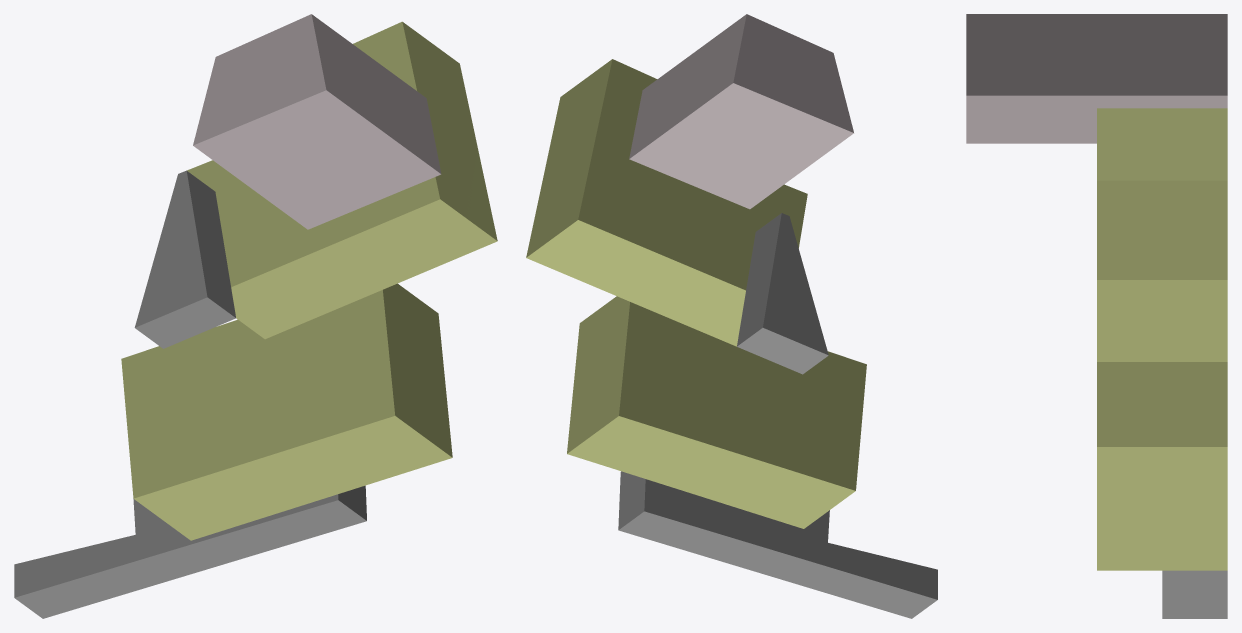
3 renders of one model, left to right at view 1: azimuth 30°, elevation 25°; view 2: azimuth 150°, elevation 25°; view 3: azimuth 270°, elevation 25°, orthographic. The views are drawn at different scales.
Visible parts, largest first — view 1: 0_1_0_0_1_0_1_3_3_0; view 2: 0_1_0_0_1_0_1_3_3_0; view 3: 0_1_0_0_1_0_1_3_3_0.
Part boxes in pixels (bbox=[...]): 0_1_0_0_1_0_1_3_3_0: bbox=[14, 14, 497, 618]; 0_1_0_0_1_0_1_3_3_0: bbox=[526, 14, 937, 618]; 0_1_0_0_1_0_1_3_3_0: bbox=[966, 14, 1227, 618].
Size of the model in its own units: 25.65 by 29.43 by 12.
